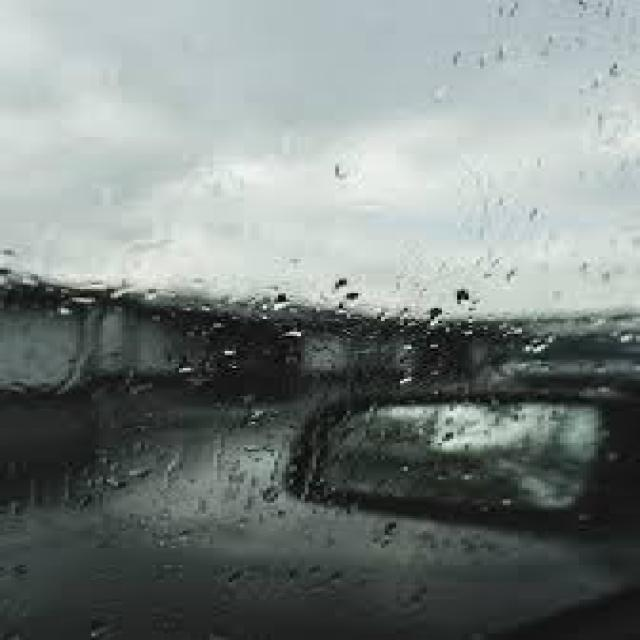raindrop: (263, 288, 297, 314), (426, 302, 456, 330), (456, 282, 480, 312), (323, 274, 353, 296), (346, 288, 369, 312)
